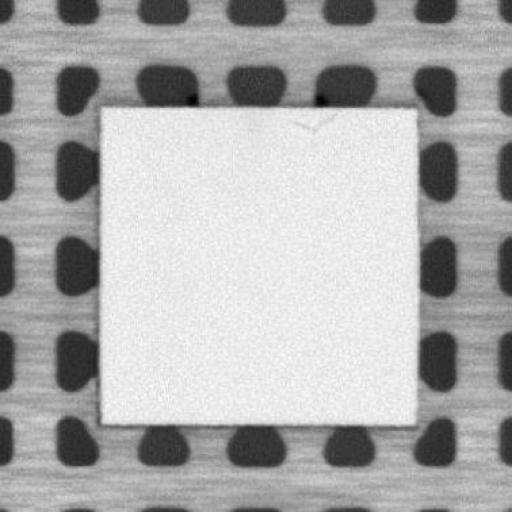DIE_CRACK: (287, 110, 337, 135)
